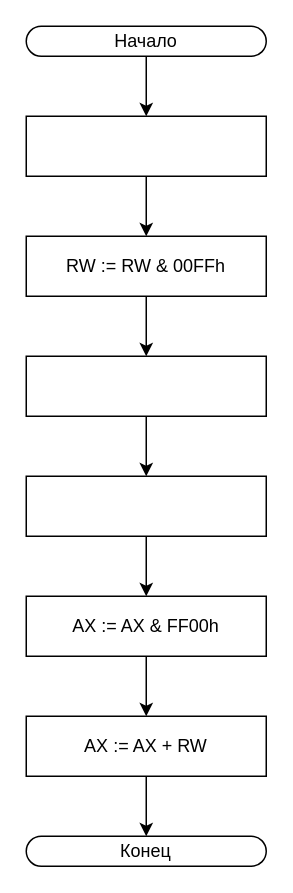
Some shapes in this 293 by 893 pixel diagram are drawn without their labels. The shapes that lost their labels are listed below. From the top down, each one's box as (x1, y1, x2, y2) in pixels, then its label:
(25, 115, 266, 176): RW := AX
(25, 355, 266, 416): ARAM := SDA
(25, 475, 266, 536): RW := RGR
